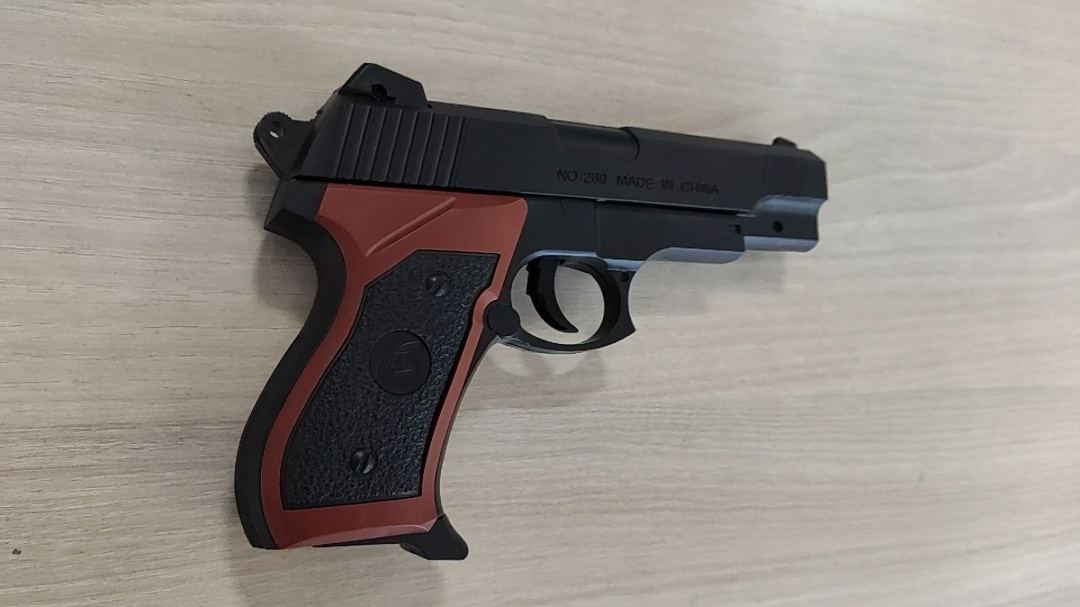gun: (228, 59, 830, 565)
